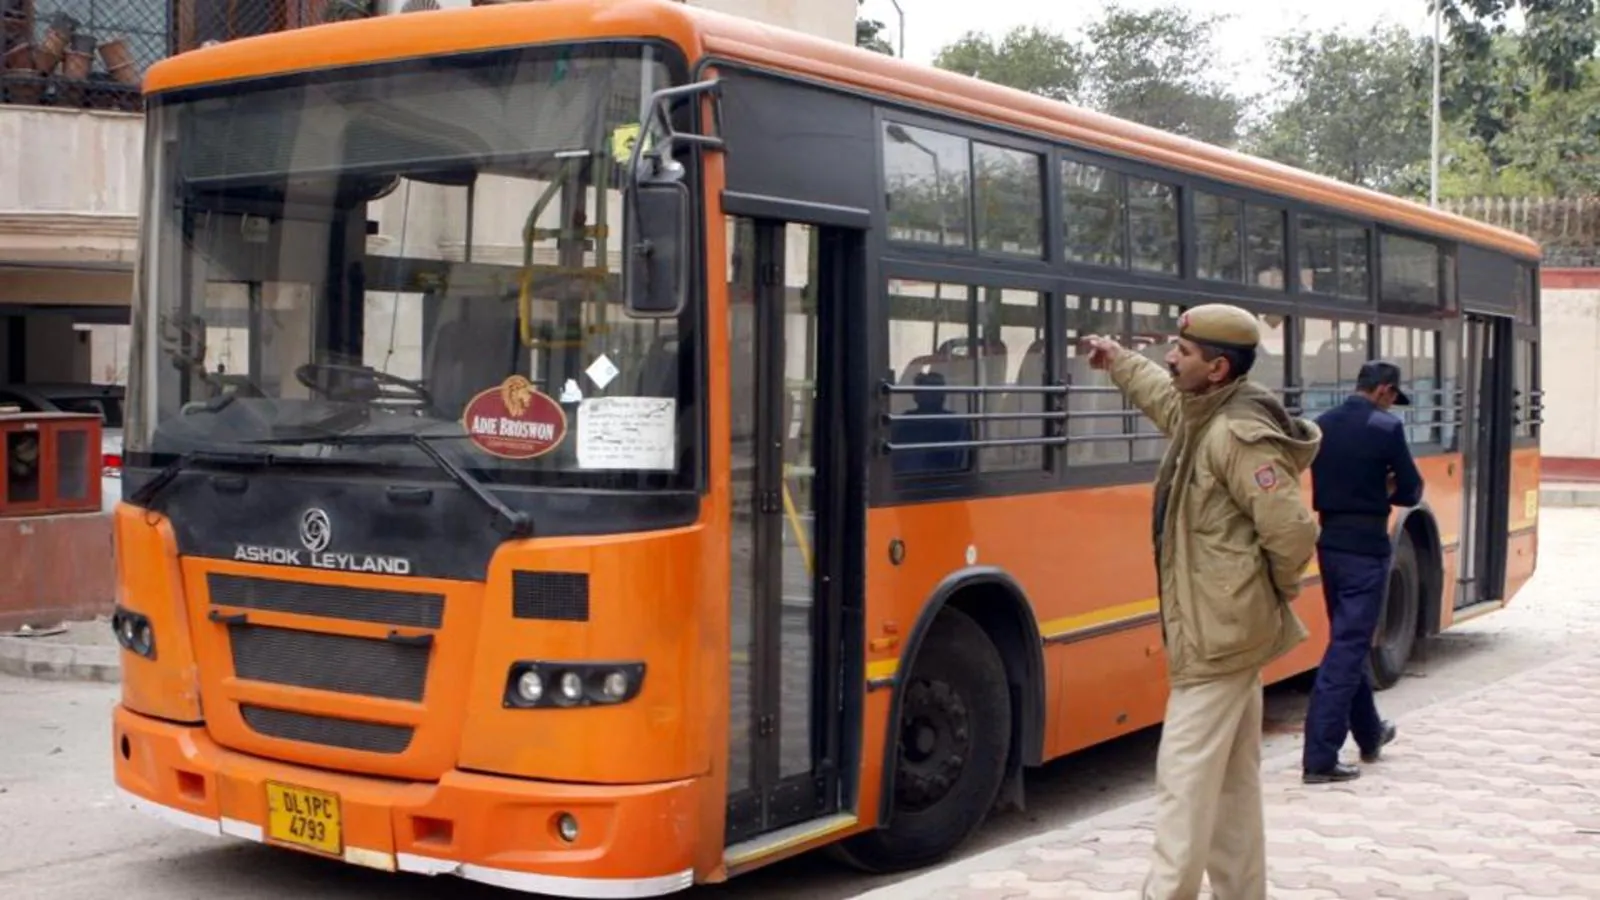bus: (105, 30, 1552, 900)
